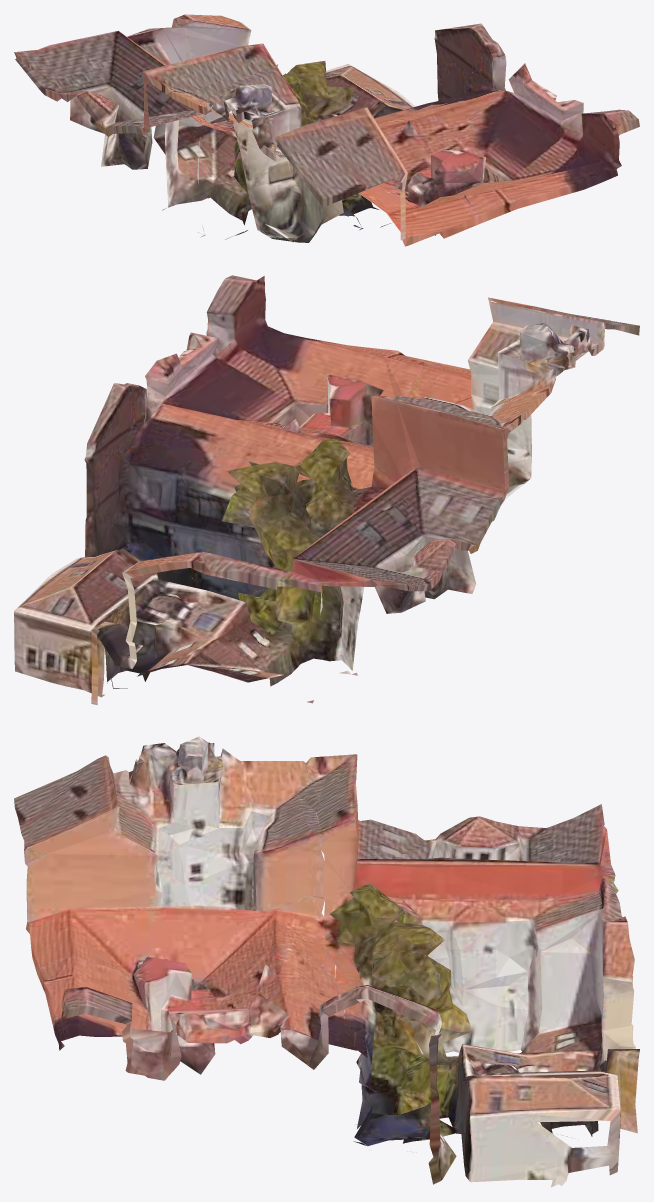
3 renders of one model, top to bottom at view 1: azimuth 30°, elevation 25°; view 2: azimuth 150°, elevation 25°; view 3: azimuth 270°, elevation 25°, orthographic. The views are drawn at different scales.
Visible parts, largest first — view 1: Mesh_0; view 2: Mesh_0; view 3: Mesh_0.
Part boxes in pixels (x1,y1,x2,y2): Mesh_0: (14,14,639,246); Mesh_0: (14,275,639,704); Mesh_0: (14,736,639,1187).
Bounding box in the file's own units: 33.28 × 20.38 × 40.57.
2 materials, 2 textured.
